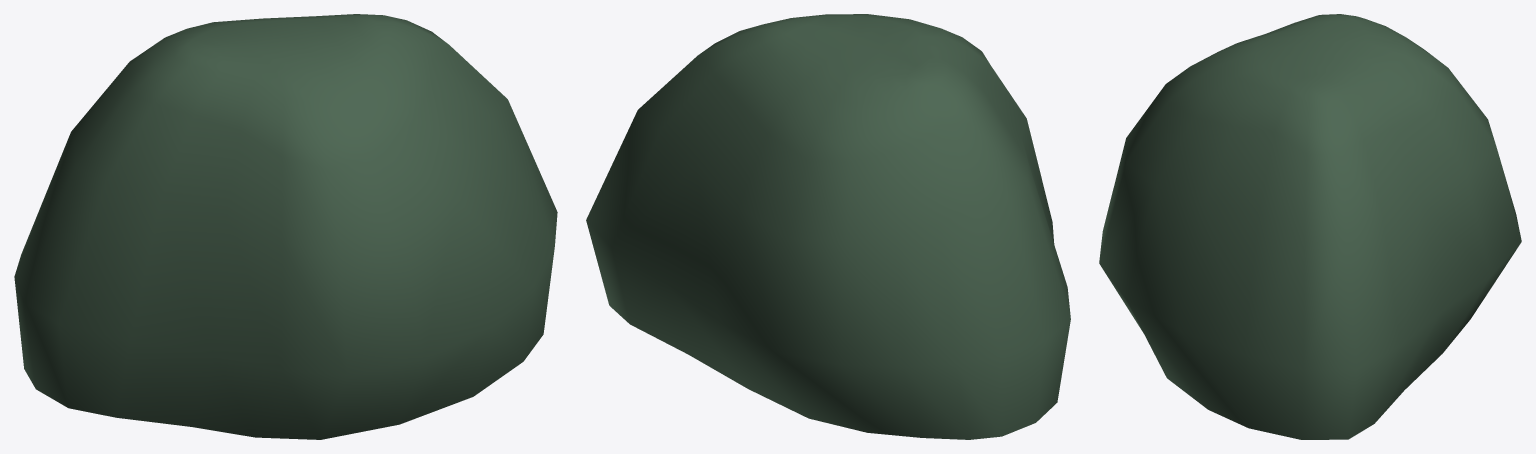
Rendered from Flag_06.fbx.
3 views of the same model, side by side, from view 1: azimuth 30°, elevation 25°; view 2: azimuth 150°, elevation 25°; view 3: azimuth 270°, elevation 25° (orthographic). The views are drawn at different scales.
Visible parts, largest first — view 1: Flag_06; view 2: Flag_06; view 3: Flag_06.
Part boxes in pixels (x1=…): Flag_06: x1=14, y1=14, x2=557, y2=439; Flag_06: x1=586, y1=14, x2=1070, y2=439; Flag_06: x1=1099, y1=14, x2=1521, y2=439.
Size of the model in its own units: 51.6 by 32.1 by 43.39.
